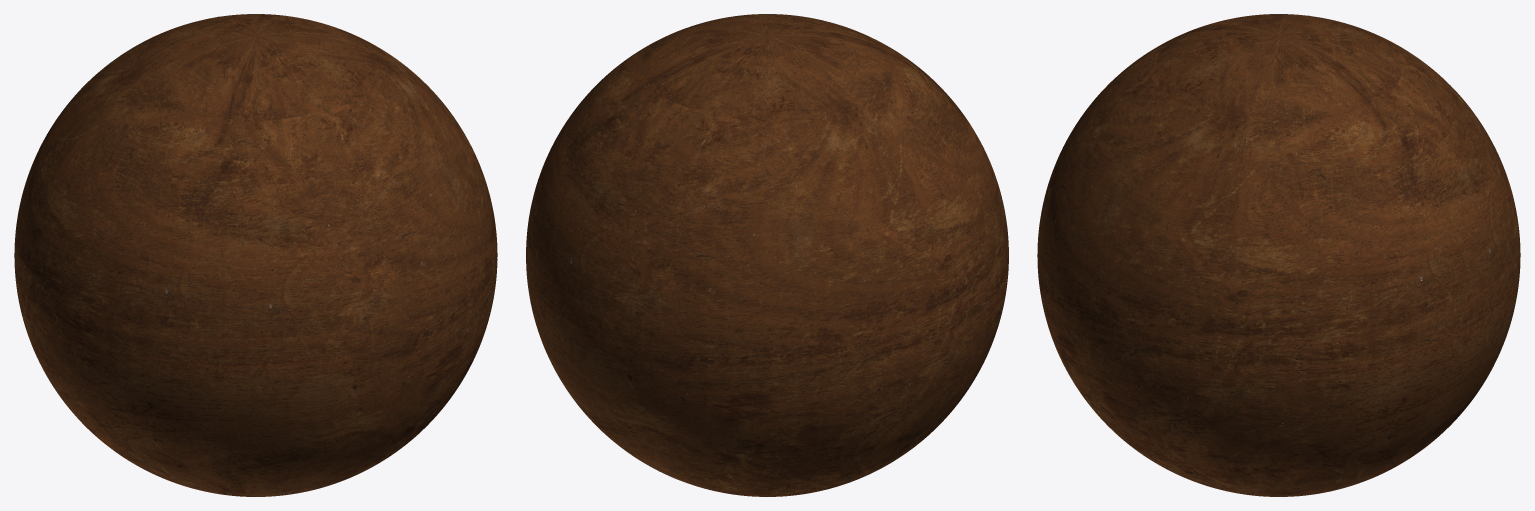
Rendered from wood_table_worn_2k.gltf.
The picture shows the model from 3 angles, left to right: view 1: azimuth 30°, elevation 25°; view 2: azimuth 150°, elevation 25°; view 3: azimuth 270°, elevation 25°; orthographic projection.
Parts seen in each view (by area): view 1: sphere_gltf; view 2: sphere_gltf; view 3: sphere_gltf.
Part boxes in pixels (x1,y1,x2,y2): sphere_gltf: (14, 14, 497, 496); sphere_gltf: (526, 14, 1008, 496); sphere_gltf: (1037, 14, 1520, 496).
Bounding box in the file's own units: 0.5499 × 0.5499 × 0.55.
Materials: 1 (1 with a texture image).
